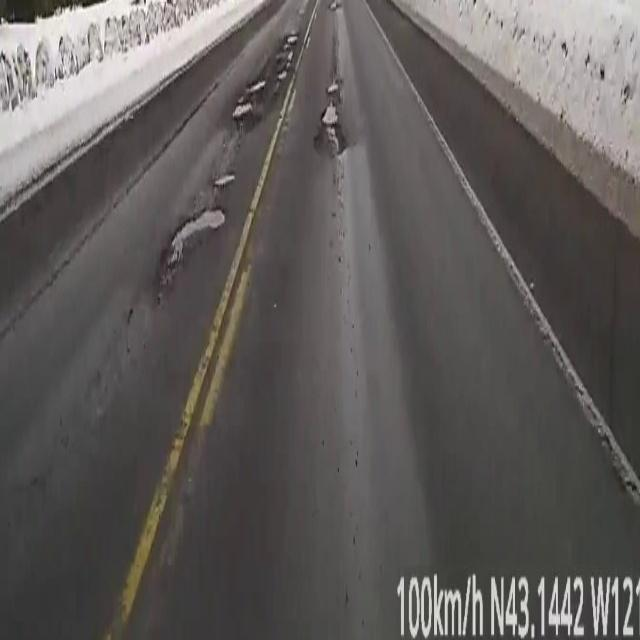pothole: (161, 202, 225, 280), (314, 78, 344, 152), (272, 32, 302, 94), (232, 78, 266, 130), (214, 170, 234, 189)
